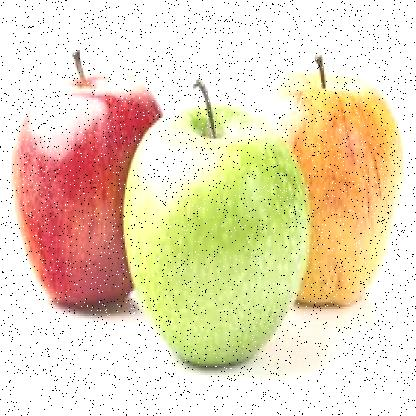apple: (116, 100, 308, 366), (260, 66, 404, 320), (14, 75, 166, 300)
